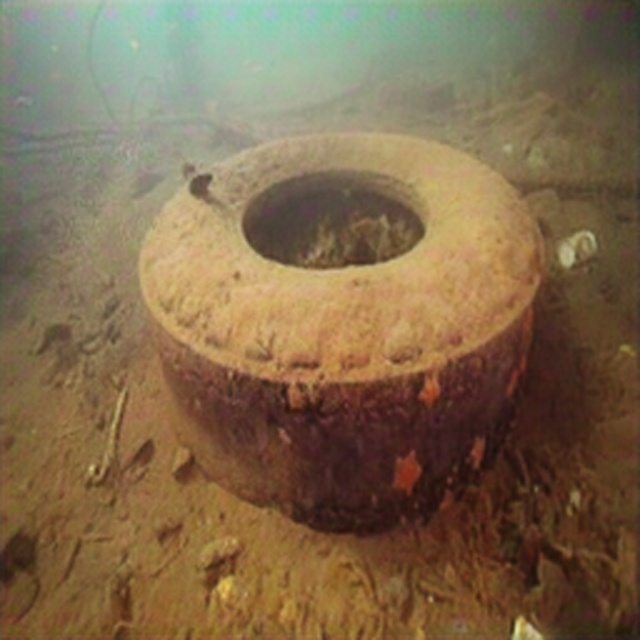mine: (137, 129, 545, 528)
